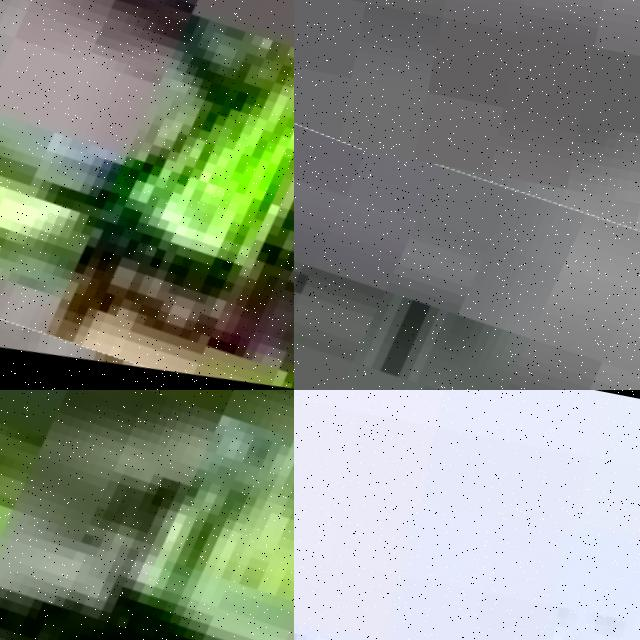drone: (0, 0, 294, 390), (294, 115, 640, 390), (0, 390, 294, 640)
